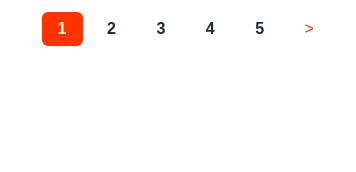
Pagination component › correctly handles previous and next button clicks
Note: Clica em "próximo" para ir para a página 2
Click the button with test id "next-button": point(310, 29) [289,12,330,46]
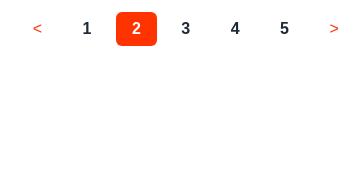
Check: the button with test id "previous-button" is shown
Check: the button with test id "previous-button" is enabled
Note: Clica em "anterior" para voltar para a página 1
Click the button with test id "previous-button": point(38, 29) [17,12,58,46]
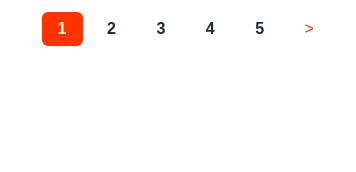
Check: the button with test id "previous-button" is gone
